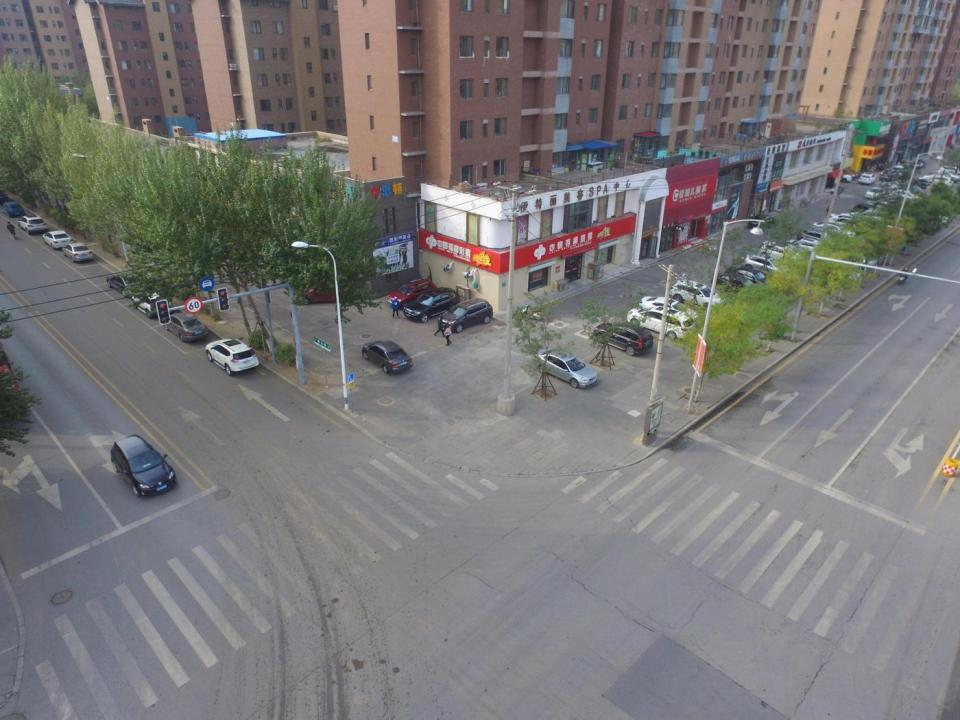car: (108, 436, 176, 497), (628, 304, 696, 341), (539, 349, 599, 390), (595, 319, 654, 356), (205, 338, 259, 377), (642, 294, 697, 329), (364, 340, 414, 377), (403, 288, 458, 321), (440, 298, 494, 329), (756, 242, 806, 274), (386, 278, 434, 311), (671, 280, 720, 312), (714, 272, 764, 303), (744, 253, 790, 285), (297, 278, 352, 304), (728, 266, 776, 295), (164, 314, 210, 344), (795, 228, 842, 257), (104, 272, 149, 300), (780, 240, 826, 266), (810, 222, 858, 246), (132, 289, 170, 318), (18, 212, 47, 236), (61, 243, 93, 263), (747, 215, 775, 231), (2, 202, 24, 218), (828, 170, 852, 182), (864, 186, 885, 199), (838, 168, 856, 180), (880, 169, 898, 180)
